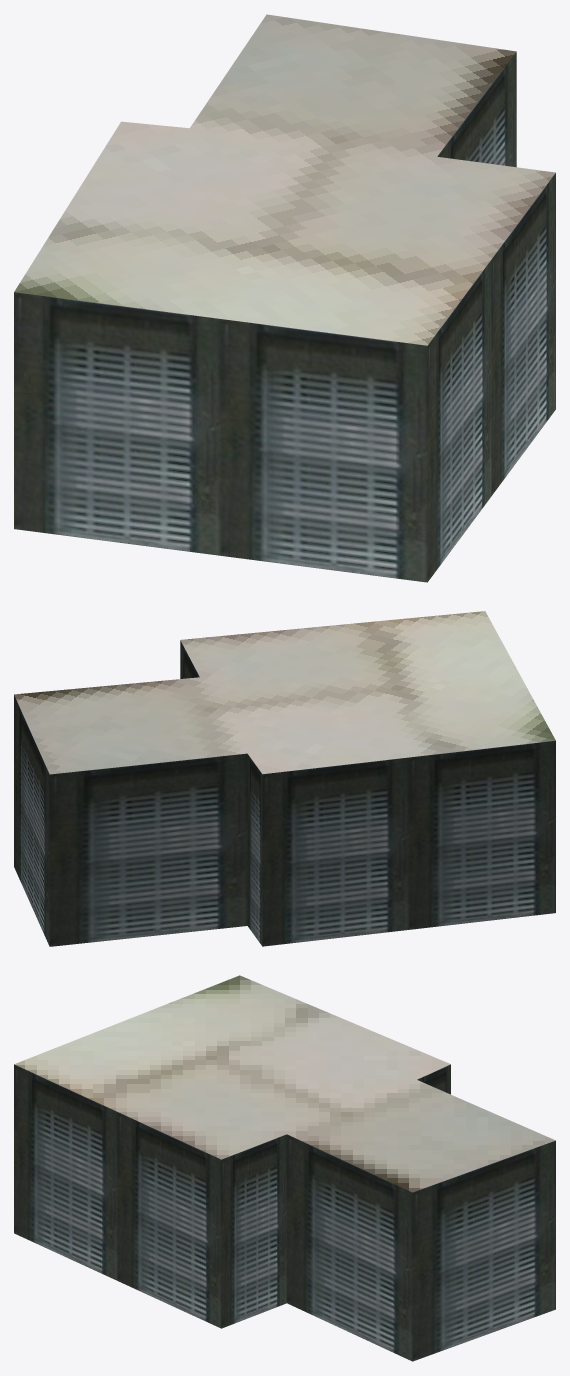
3 views of the same model, one above another, from view 1: azimuth 30°, elevation 25°; view 2: azimuth 150°, elevation 25°; view 3: azimuth 270°, elevation 25° (orthographic). The views are drawn at different scales.
Parts seen in each view (by area): view 1: SketchUp (×4); view 2: SketchUp (×5); view 3: SketchUp (×6).
Boxes of the visible parts, x1,y1,x2,y2 form: SketchUp (×4): (14,14,555,582); SketchUp (×5): (14,611,555,946); SketchUp (×6): (14,975,555,1361).
Bounding box in the file's own units: 11.55 × 12.18 × 4.19.
2 materials, 2 textured.
